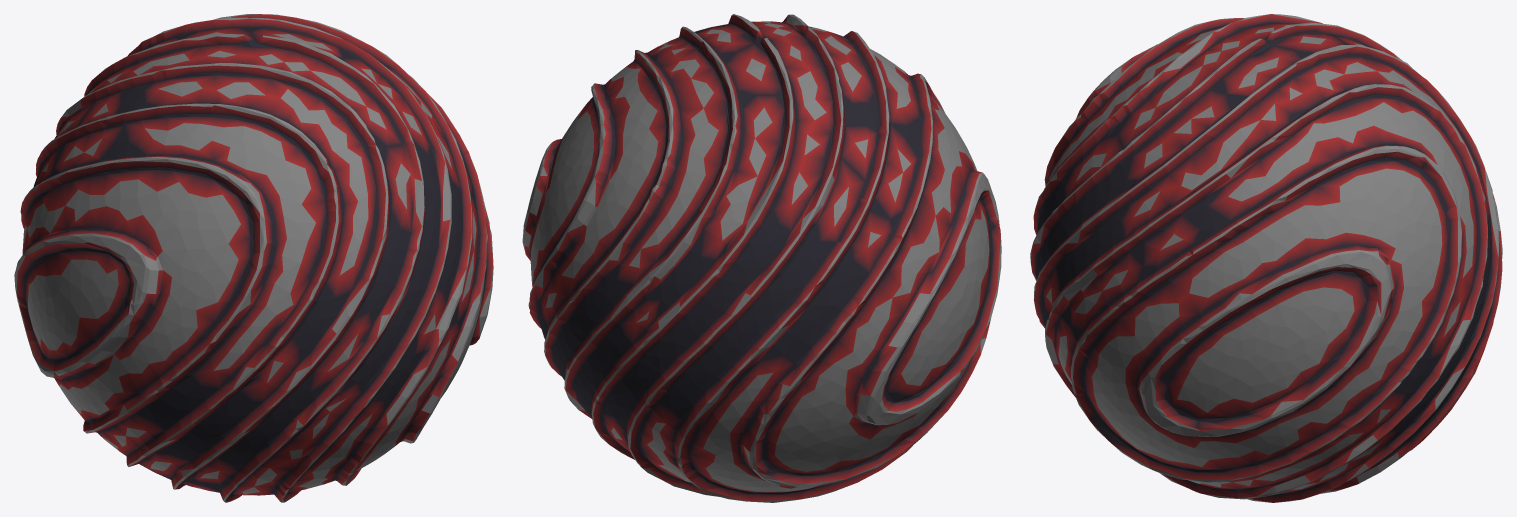
The picture shows the model from 3 angles, left to right: view 1: azimuth 30°, elevation 25°; view 2: azimuth 150°, elevation 25°; view 3: azimuth 270°, elevation 25°; orthographic projection.
Visible parts, largest first — view 1: 11, 10; view 2: 11, 10; view 3: 11, 10.
Part boxes in pixels (x1,y1,x2,y2): 11: (16, 14, 493, 501); 10: (14, 14, 493, 502); 11: (524, 15, 1000, 500); 10: (522, 14, 1001, 502); 11: (1030, 14, 1502, 502); 10: (1030, 14, 1502, 502).
Size of the model in its own units: 4763 by 5055 by 4853.
